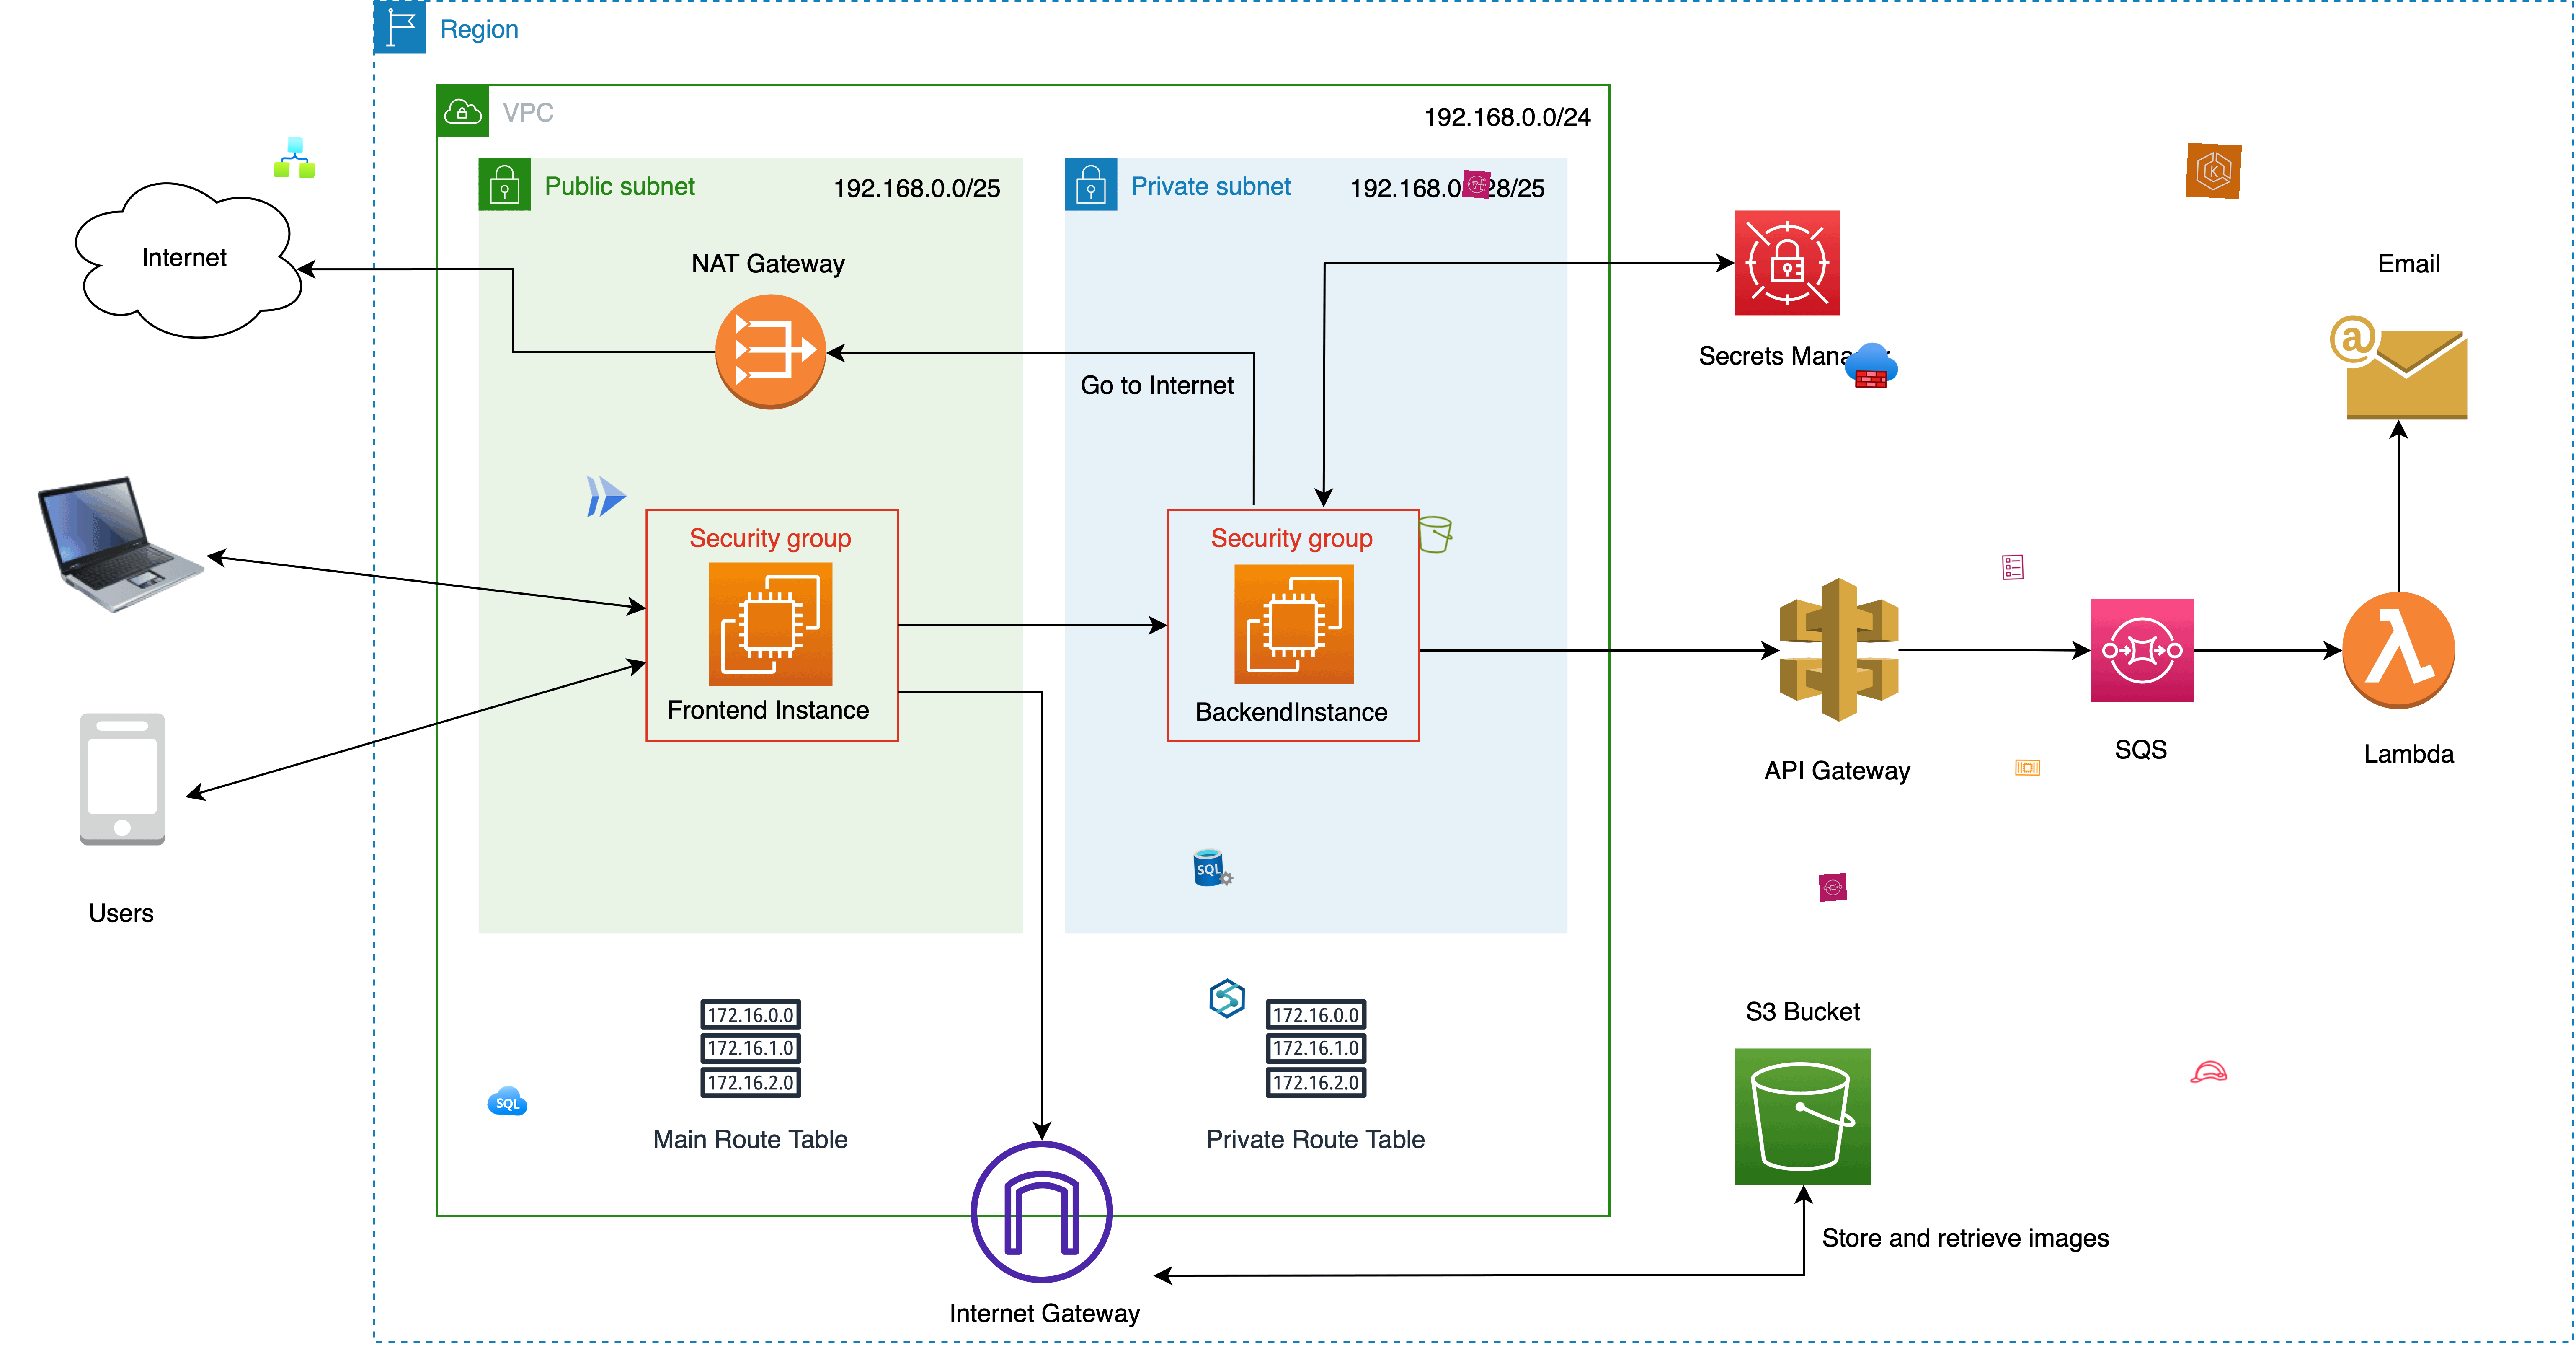aws_amazon_elastic_kubernetes_service: (2186, 143, 2242, 199)
aws_amazon_simple_notification_service: (1462, 170, 1491, 199)
aws_amazon_simple_queue_service: (1818, 873, 1847, 902)
aws_cloudformation_template: (1998, 552, 2027, 581)
aws_elastic_container_service_container_2: (2014, 753, 2041, 781)
aws_identity_access_management_role: (2188, 1050, 2230, 1093)
aws_simple_storage_service_s3_standard: (1414, 513, 1457, 556)
azure_firewalls: (1843, 338, 1900, 394)
azure_logic_apps: (274, 136, 315, 179)
azure_sql: (486, 1079, 530, 1122)
azure_sql_server: (1191, 846, 1235, 890)
azure_synapse_analytics: (1206, 978, 1247, 1019)
gcp_cloud_run: (579, 469, 634, 523)
